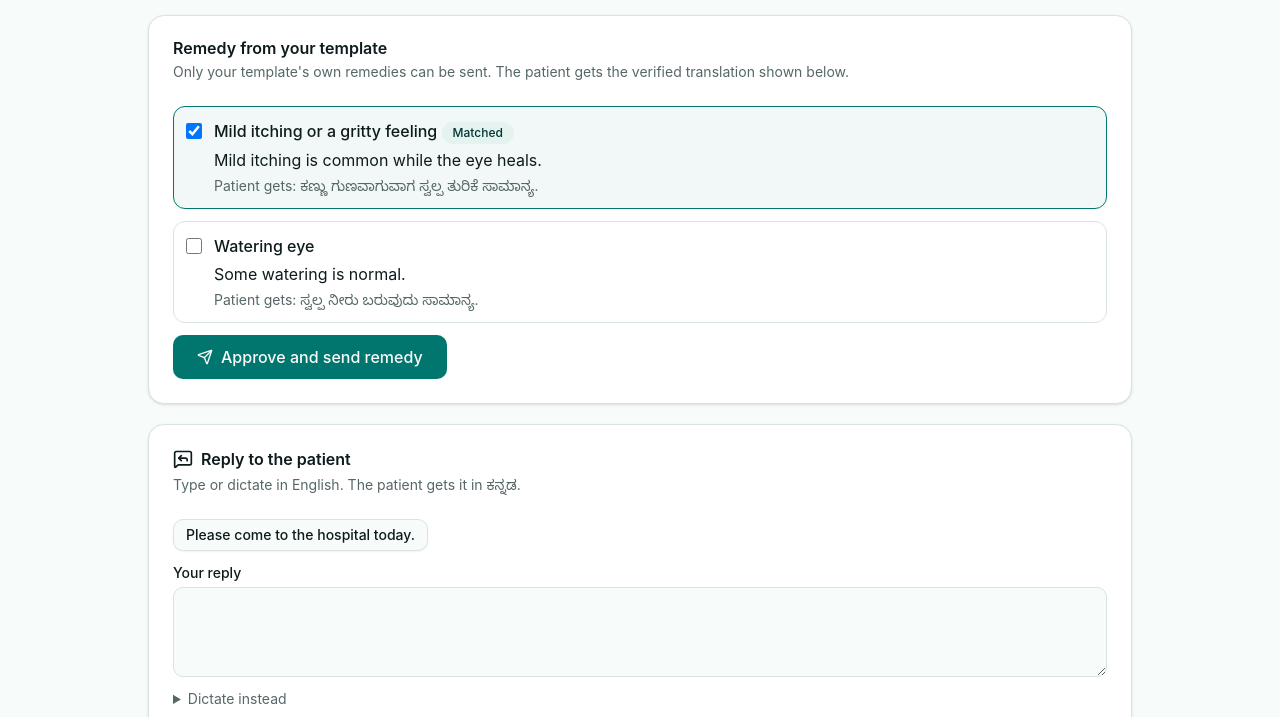
the doctor approves the template's remedy and sees the Kannada text sent
The image size is (1280, 717).
(page scrolled)
Expected: the checkbox labelled "Mild itching" is checked, [186,123,202,139]
Expected: the checkbox labelled "Watering eye" is not checked, [186,238,202,254]
Step 1. Click the button "Approve and send remedy" → (310, 357), box [173,335,447,379]
(page scrolled)
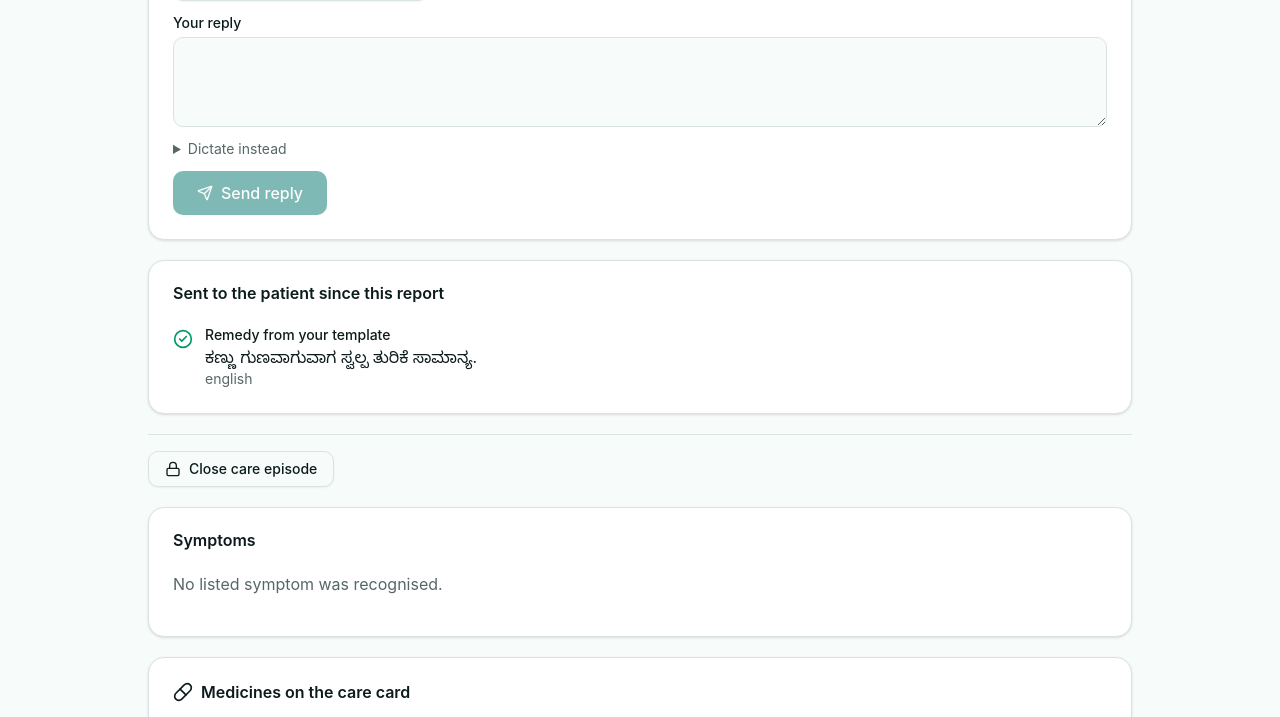
Expected: the text "ಕಣ್ಣು ಗುಣವಾಗುವಾಗ ಸ್ವಲ್ಪ ತುರಿಕೆ ಸಾಮಾನ್ಯ." is shown, [205,345,477,369]
Result: the button "Approve and send remedy" is gone
